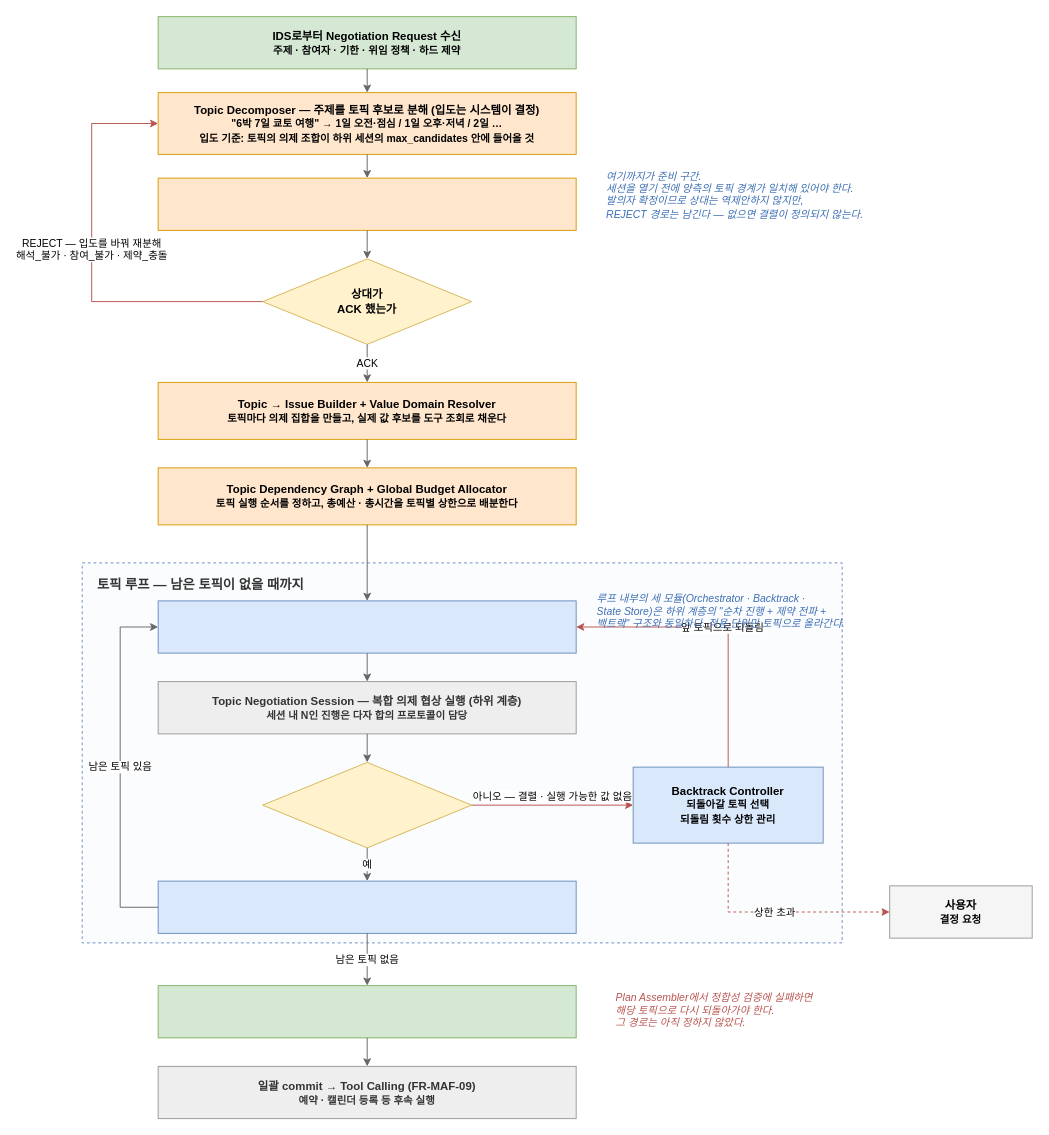
This 1049x1135 diagram has some shape labels left out. Each missing label, with the centre of its shape:
"Decomposition Announcer — 분해안 통보 발의자가 확정한 분해안을 통보한다. 상대는 역제안하지 않는다" goes at (x=366, y=203).
"Plan Assembler — 전 토픽 잠정 합의 조립 · 전역 정합성 검증 예산 총합 · 이동 연속성 · 시간 겹침" goes at (x=366, y=1011).
"Plan State Store — 이번 토픽 합의를 잠정(tentative) 기록 전체 계획이 확정되기 전에는 외부 commit 하지 않는다" goes at (x=366, y=906).
"Topic Session Orchestrator — 다음 토픽 세션 개시 앞 토픽의 확정값과 남은 자원을 이번 토픽의 제약으로 전파" goes at (x=366, y=626).
"합의가 성립했는가" goes at (x=367, y=804).
